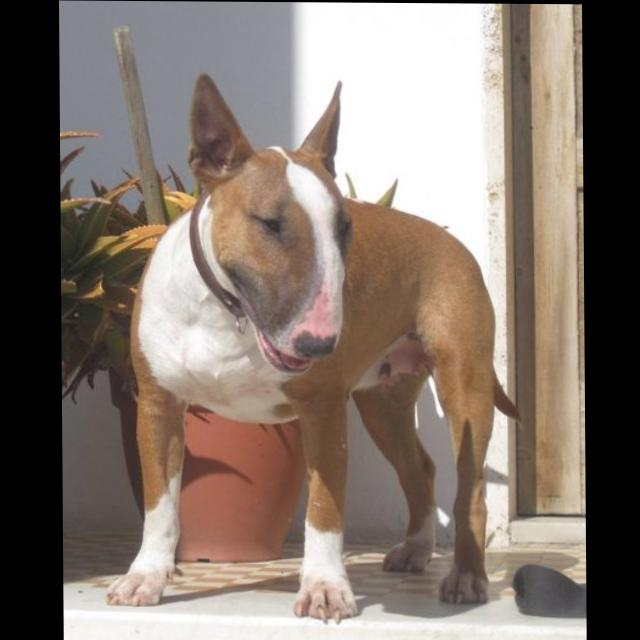bullterrier: (100, 72, 522, 626)
